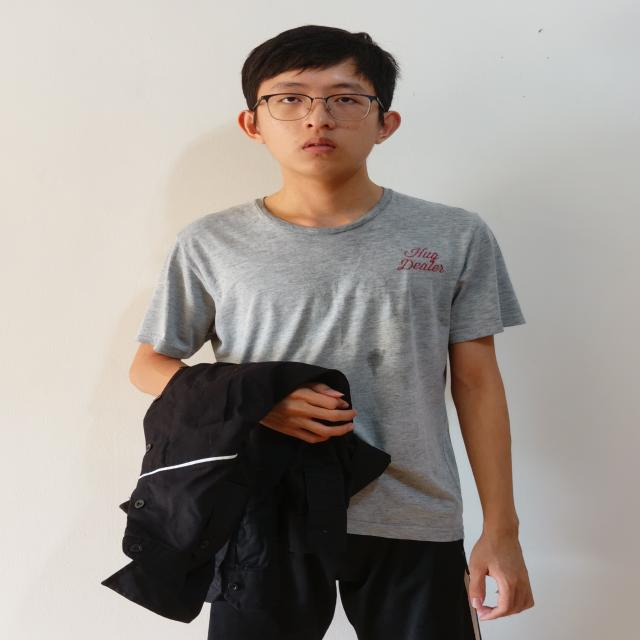person_without_labcoat: (105, 25, 532, 640)
